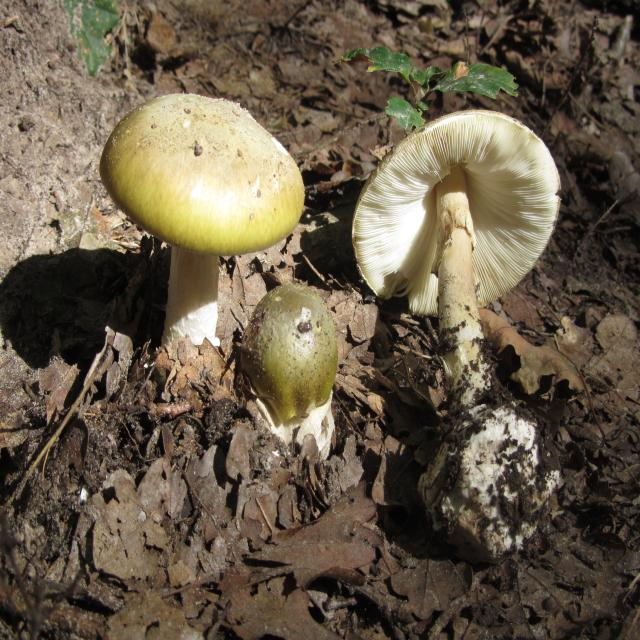death-cap: (351, 110, 561, 554), (98, 94, 306, 340), (241, 284, 339, 452)
